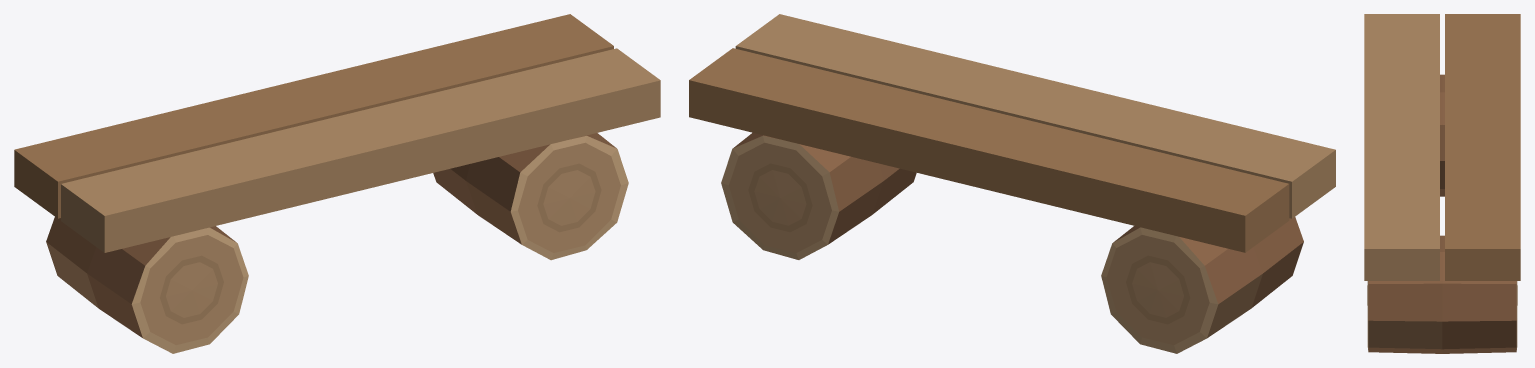
Rendered from Log_Bench.glb.
3 renders of one model, left to right at view 1: azimuth 30°, elevation 25°; view 2: azimuth 150°, elevation 25°; view 3: azimuth 270°, elevation 25°, orthographic. The views are drawn at different scales.
Visible parts, largest first — view 1: Log_Bench; view 2: Log_Bench; view 3: Log_Bench.
Part boxes in pixels (left/top/right/bottom): Log_Bench: left=14, top=14, right=660, bottom=353; Log_Bench: left=689, top=14, right=1335, bottom=353; Log_Bench: left=1364, top=14, right=1520, bottom=353.
Size of the model in its own units: 1.65 by 0.4507 by 0.465.
